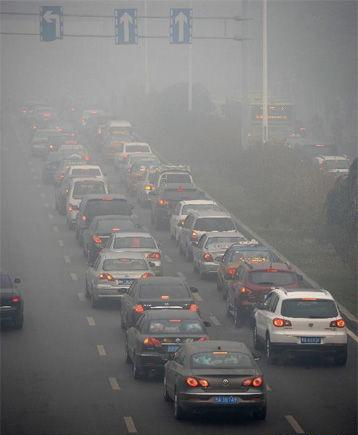bus: (219, 89, 295, 160)
car: (162, 338, 267, 418), (251, 284, 348, 363), (125, 310, 214, 382), (223, 259, 306, 328), (120, 274, 199, 334), (85, 247, 156, 306), (71, 192, 134, 249), (176, 208, 238, 261), (83, 215, 145, 263), (104, 231, 163, 277), (190, 232, 249, 276), (149, 182, 202, 229), (167, 199, 220, 242), (67, 178, 111, 224), (53, 172, 103, 212), (289, 138, 337, 178), (307, 153, 352, 191), (1, 271, 26, 333), (133, 165, 169, 204), (154, 167, 195, 201), (118, 152, 160, 185), (44, 152, 84, 184), (54, 157, 93, 189), (113, 140, 152, 170), (67, 165, 109, 190), (30, 126, 64, 153)
